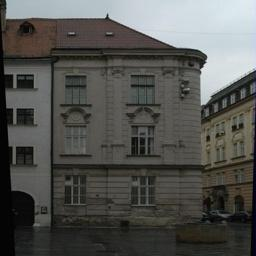building: (48, 13, 210, 236)
